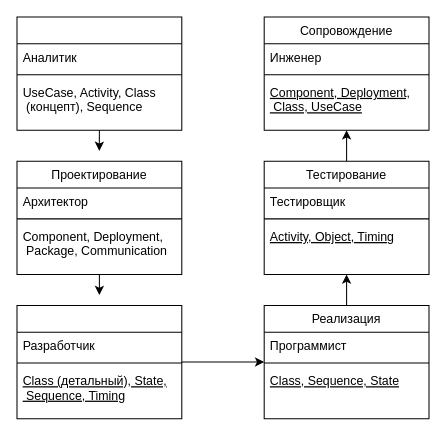
Image size: 446x436. Some labels were removed from this diagram. Here are the shapes that lost their labels. From the top down, the box of each, then its label:
(16, 16, 182, 130): Анализ требований
(16, 304, 182, 419): Разработка
